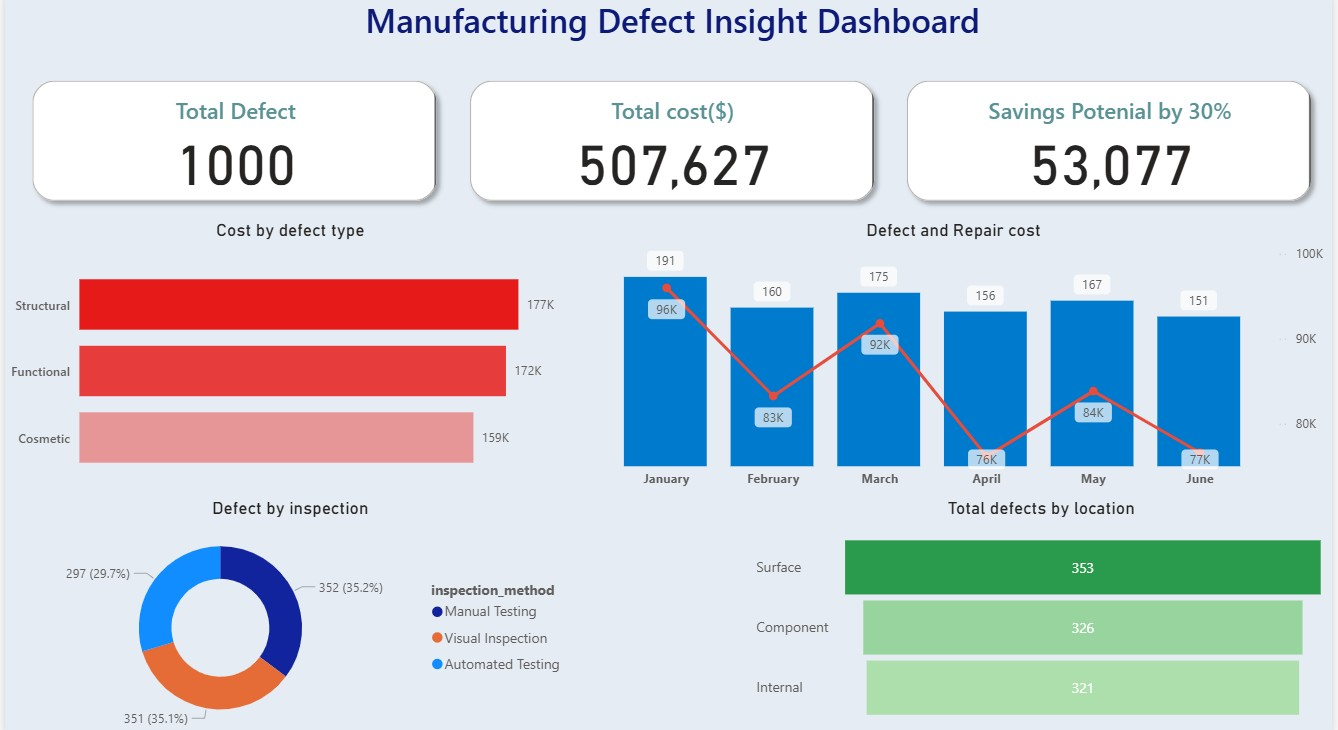

The page's visual inventory and layout, read from the dashboard file:
{"tool":"powerbi","page":{"name":"Page 2","canvas":[1280,720],"ordinal":0},"visuals":[{"type":"textbox","box":[10.1,0,1269.6,69.3],"z":0},{"type":"cardVisual","fields":{"Data":["defects_data.Total Defect","defects_data.Total cost","defects_data.Estimated Savings"]},"box":[10.1,69.3,1269.6,150],"z":1000},{"type":"lineStackedColumnComboChart","title":"Defect and Repair cost","fields":{"Category":["defects_data.Month Name"],"Y":["defects_data.Total Defect"],"Y2":["defects_data.Total cost"]},"box":[551.1,219.3,728.6,268.4],"z":2000},{"type":"barChart","title":"Cost  by defect type","fields":{"Y":["defects_data.Total cost"],"Category":["defects_data.defect_type"]},"box":[0,219.3,551.1,268.4],"z":3000},{"type":"donutChart","title":"Defect by inspection","fields":{"Category":["defects_data.inspection_method"],"Y":["defects_data.Total Defect"]},"box":[0,487.7,551.1,233.7],"z":4000},{"type":"funnel","title":"Total defects by location","fields":{"Y":["defects_data.Total Defect"],"Category":["defects_data.defect_location"]},"box":[719.9,487.7,559.8,232.3],"z":5000}]}

Visuals, with their boxes on the page's 1280x720 design canvas (x1, y1, x2, y2). These are canvas units, not pixel positions in the 1338x730 screenshot, which may show the page scaled, cropped or inside an application window:
textbox: box(10, 0, 1280, 69)
cardVisual - defects_data.Total Defect x defects_data.Total cost: box(10, 69, 1280, 219)
"Defect and Repair cost" lineStackedColumnComboChart: box(551, 219, 1280, 488)
"Cost  by defect type" barChart: box(0, 219, 551, 488)
"Defect by inspection" donutChart: box(0, 488, 551, 721)
"Total defects by location" funnel: box(720, 488, 1280, 720)
